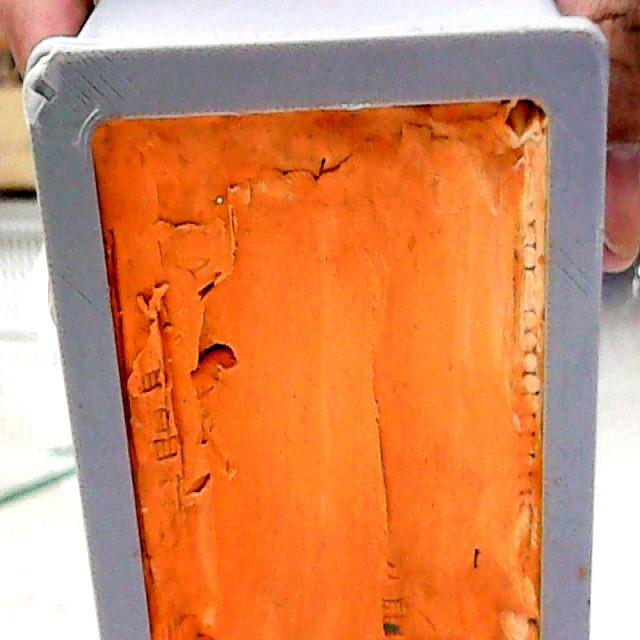block: (16, 1, 612, 640)
